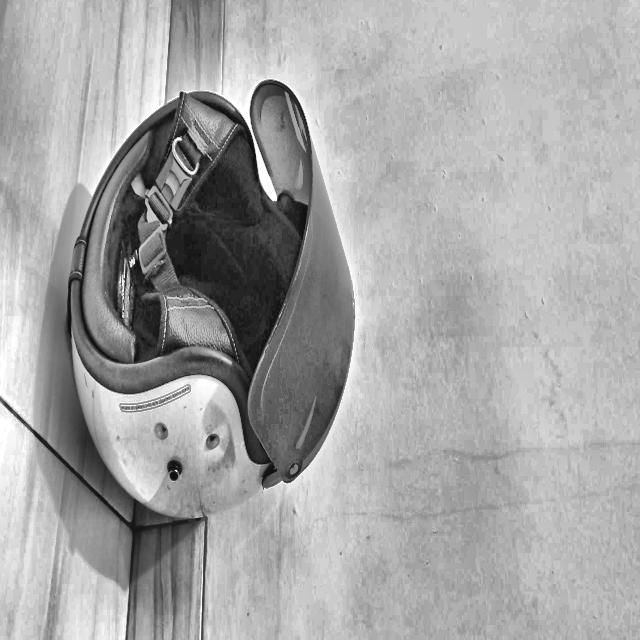Helmet: (306, 447, 578, 640)
